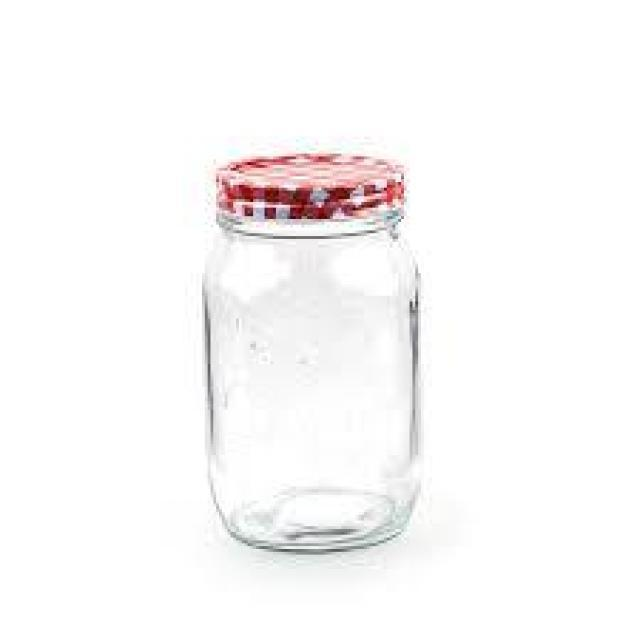glass: (198, 152, 426, 553)
